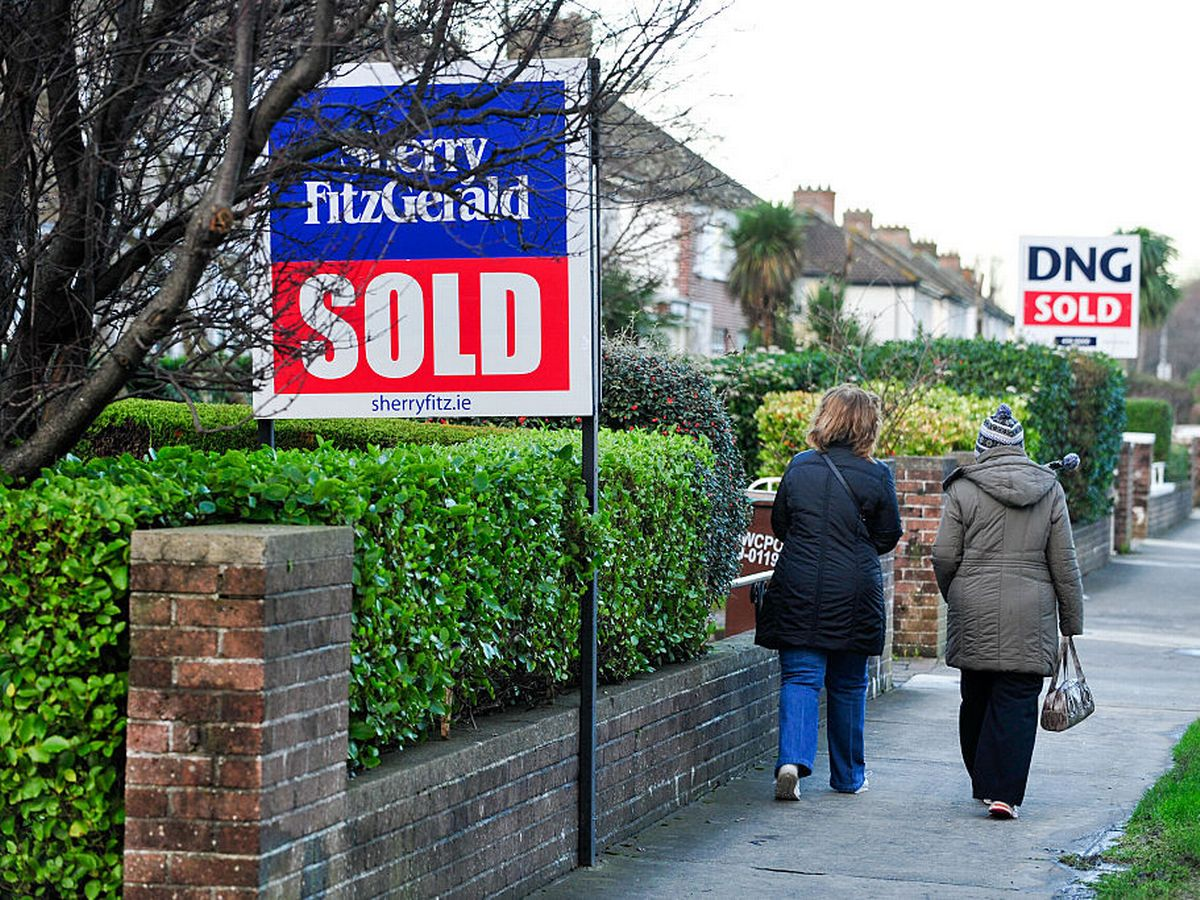property sign: (226, 49, 630, 484), (996, 215, 1157, 374)
